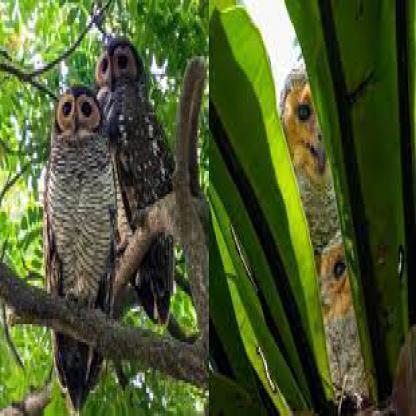owl: (90, 0, 233, 401), (23, 66, 125, 414), (262, 0, 350, 296), (308, 214, 414, 414)
